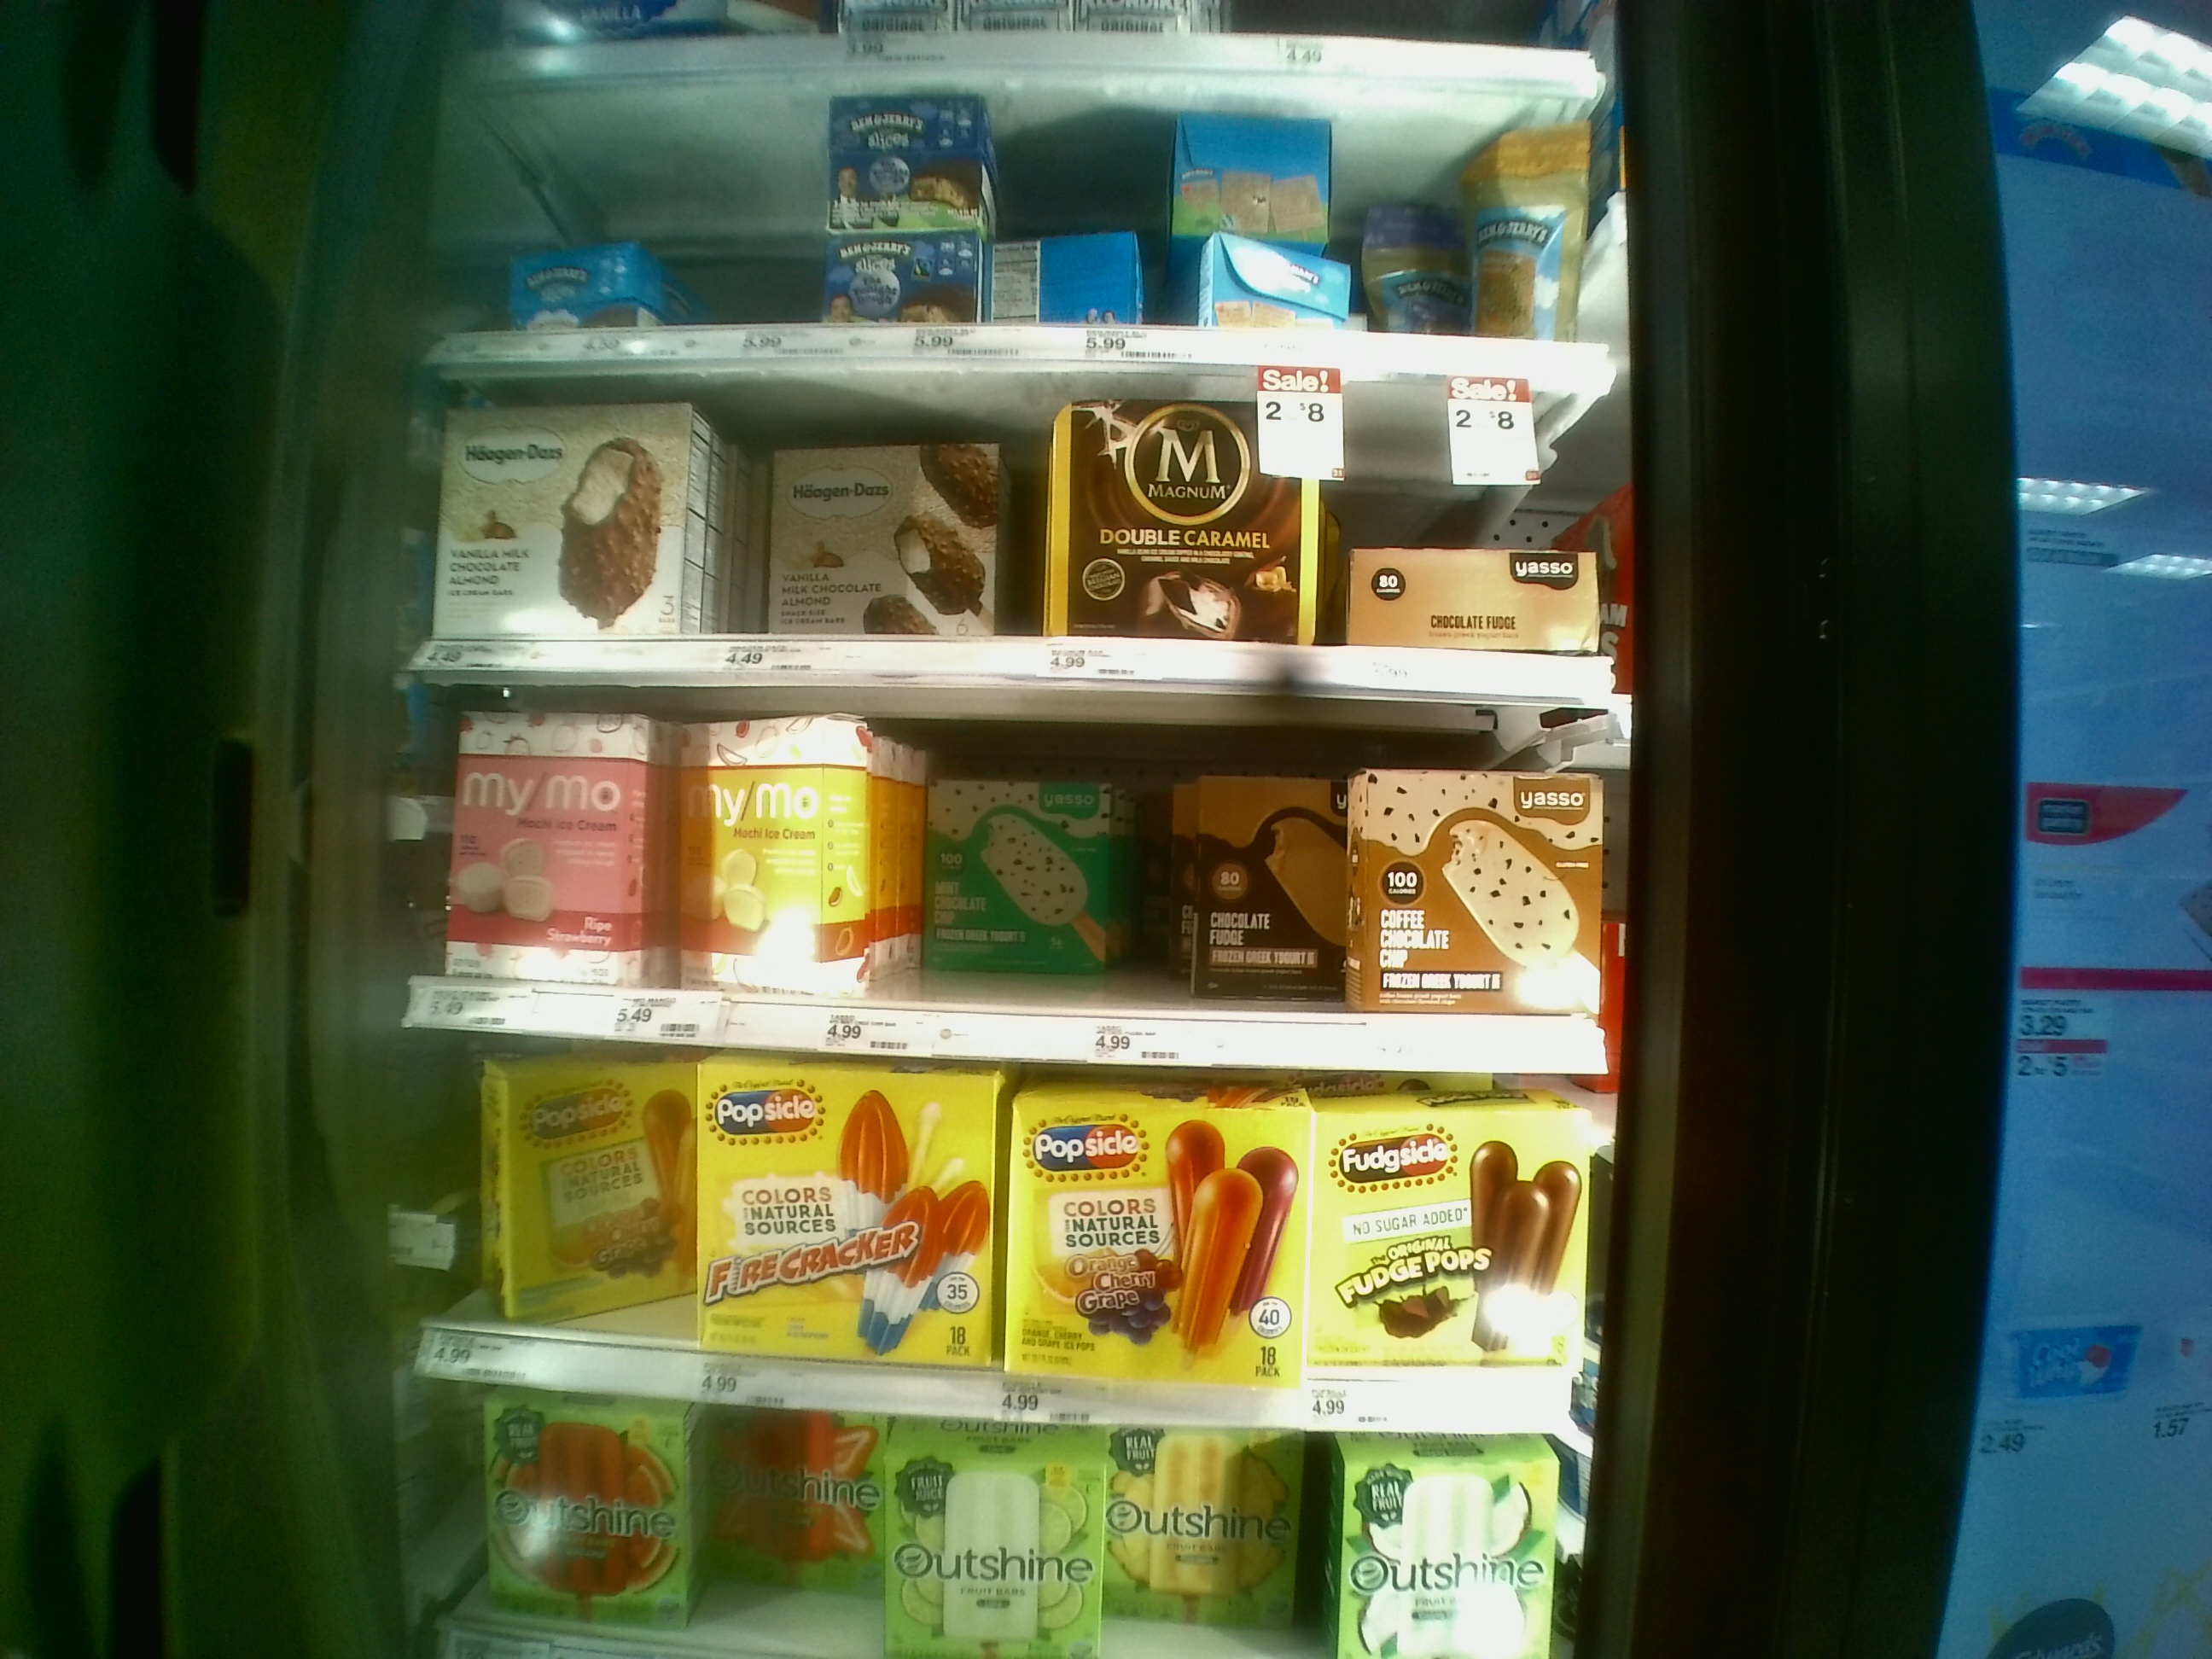shelf: (435, 1039, 1576, 1436), (401, 678, 1615, 1042), (421, 364, 1627, 687), (427, 77, 1611, 357)
